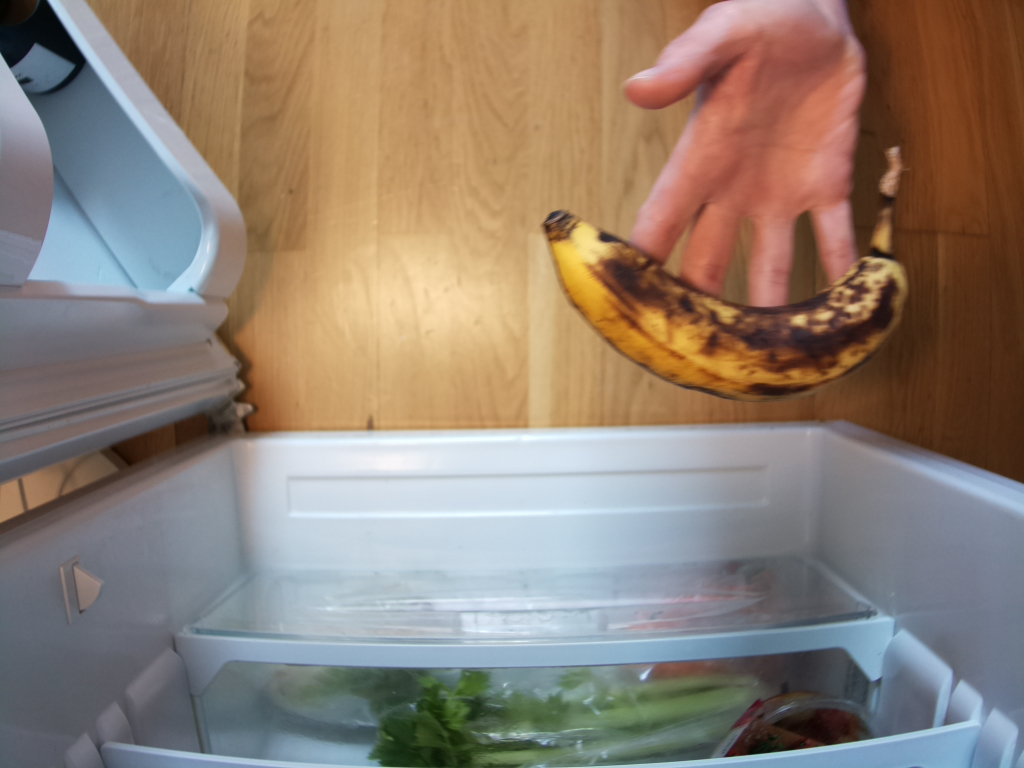banana-overripe: (540, 147, 910, 401)
